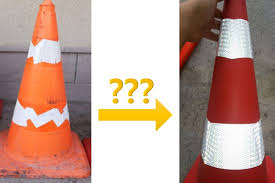cones: (3, 4, 90, 183), (190, 1, 274, 183)
